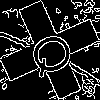Q: (25, 25, 85, 81)
